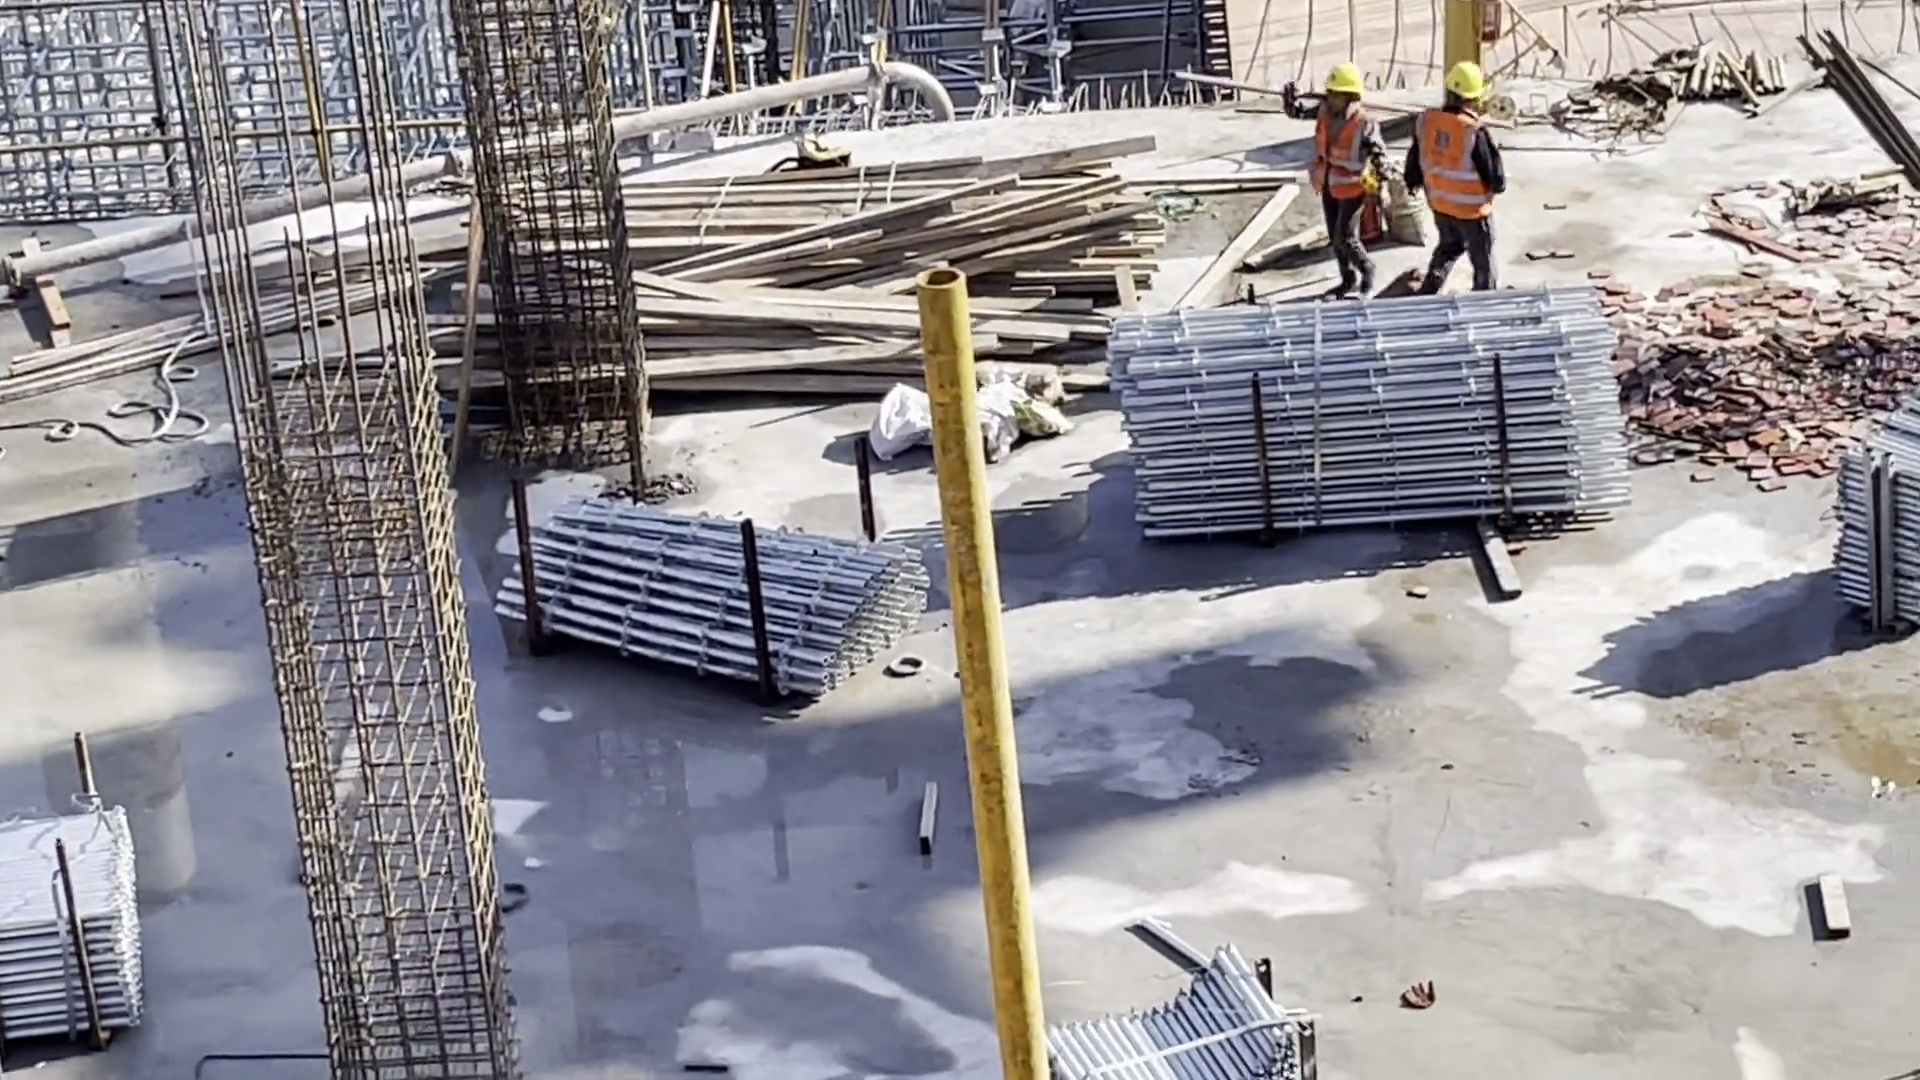helmet: (1444, 62, 1488, 111), (1319, 61, 1364, 101)
person: (1407, 51, 1512, 293), (1307, 57, 1385, 287)
scaffold: (1082, 298, 1614, 544), (492, 500, 925, 707), (1034, 950, 1327, 1080), (1, 800, 140, 1042), (1835, 393, 1920, 638)
vest: (1415, 116, 1487, 227), (1313, 111, 1380, 231)
wood: (636, 133, 1151, 393)
